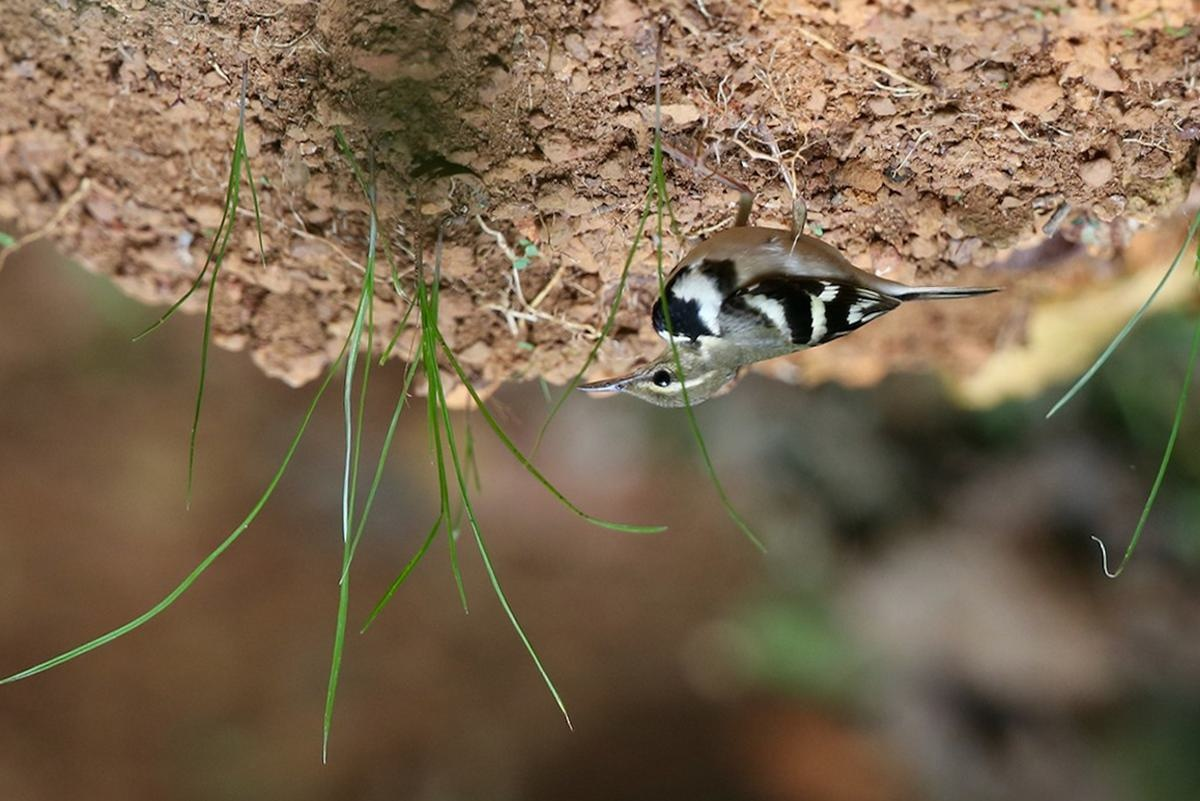wagtail: (580, 172, 903, 433)
